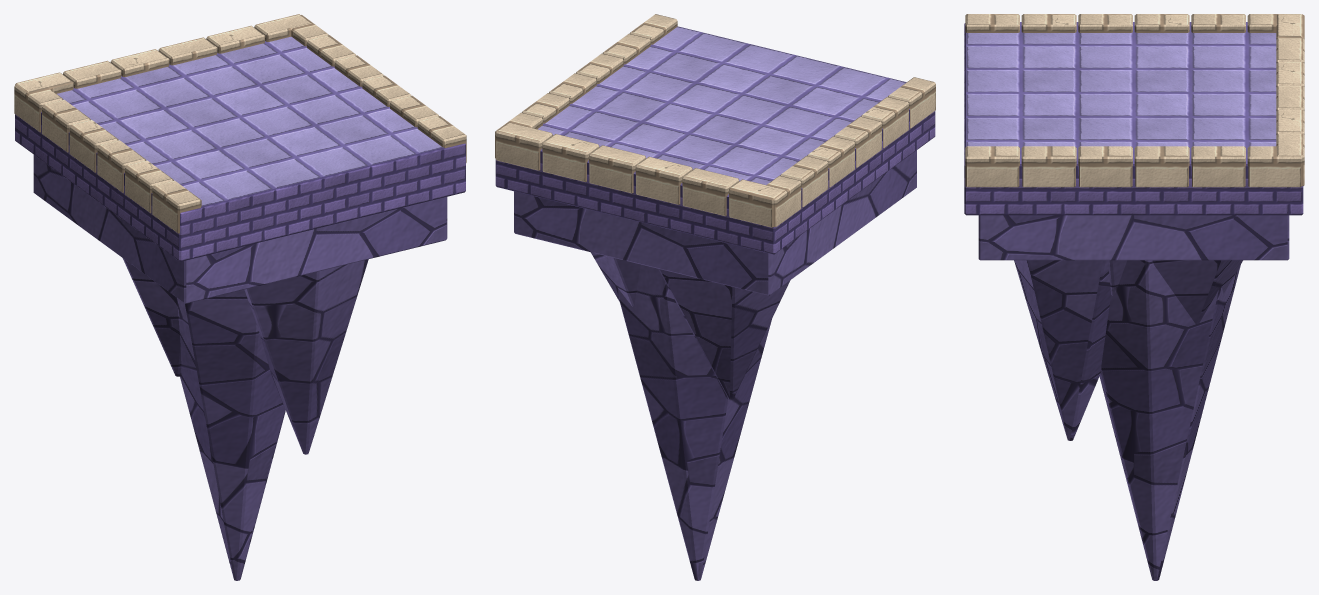
Rendered from Camino_Final.fbx.
3 renders of one model, left to right at view 1: azimuth 30°, elevation 25°; view 2: azimuth 150°, elevation 25°; view 3: azimuth 270°, elevation 25°, orthographic. The views are drawn at different scales.
Parts seen in each view (by area): view 1: Mod_Camino_Final; view 2: Mod_Camino_Final; view 3: Mod_Camino_Final.
Part boxes in pixels (bbox=[...]): Mod_Camino_Final: bbox=[14, 14, 466, 580]; Mod_Camino_Final: bbox=[495, 14, 935, 580]; Mod_Camino_Final: bbox=[964, 14, 1304, 580].
Size of the model in its own units: 6.04 by 9.59 by 6.02.
